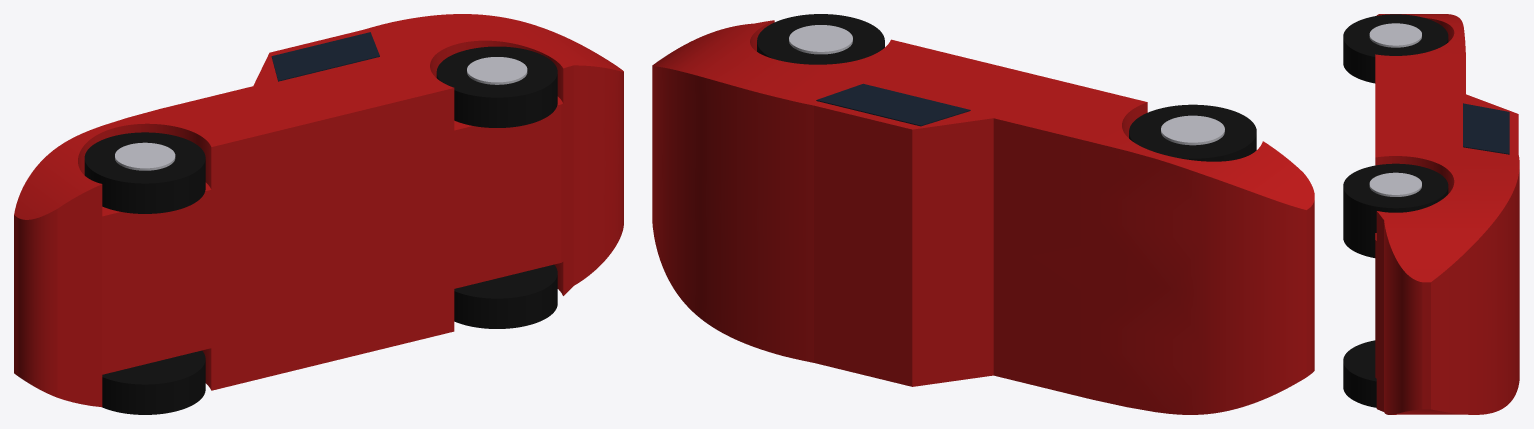
Rendered from car.glb.
3 renders of one model, left to right at view 1: azimuth 30°, elevation 25°; view 2: azimuth 150°, elevation 25°; view 3: azimuth 270°, elevation 25°, orthographic. The views are drawn at different scales.
Visible parts, largest first — view 1: body, tyre_0_1, tyre_1_1, tyre_0_-1, tyre_1_-1, glass, hub_0_1, hub_1_1; view 2: body, tyre_0_1, tyre_1_1, glass, hub_0_1, hub_1_1; view 3: body, tyre_1_1, tyre_0_1, glass, tyre_1_-1, hub_0_1, hub_1_1, tyre_0_-1.
Part boxes in pixels (box(x1,y1,x2,y2)): body: box(14, 14, 623, 407); tyre_0_1: box(84, 132, 205, 213); tyre_1_1: box(436, 46, 557, 127); tyre_0_-1: box(102, 350, 205, 414); tyre_1_-1: box(454, 264, 557, 328); glass: box(271, 32, 379, 81); hub_0_1: box(115, 142, 175, 170); hub_1_1: box(467, 57, 527, 84); body: box(652, 20, 1314, 414); tyre_0_1: box(1129, 104, 1256, 161); tyre_1_1: box(757, 14, 884, 64); glass: box(816, 83, 970, 126); hub_0_1: box(1161, 115, 1224, 145); hub_1_1: box(789, 25, 852, 54); body: box(1375, 14, 1519, 414); tyre_1_1: box(1343, 163, 1448, 232); tyre_0_1: box(1343, 14, 1448, 83); glass: box(1463, 103, 1509, 154); tyre_1_-1: box(1343, 340, 1376, 407); hub_0_1: box(1369, 23, 1421, 47); hub_1_1: box(1369, 172, 1421, 196); tyre_0_-1: box(1343, 215, 1375, 257).
Size of the model in its own units: 210 by 80.6 by 60.4.
